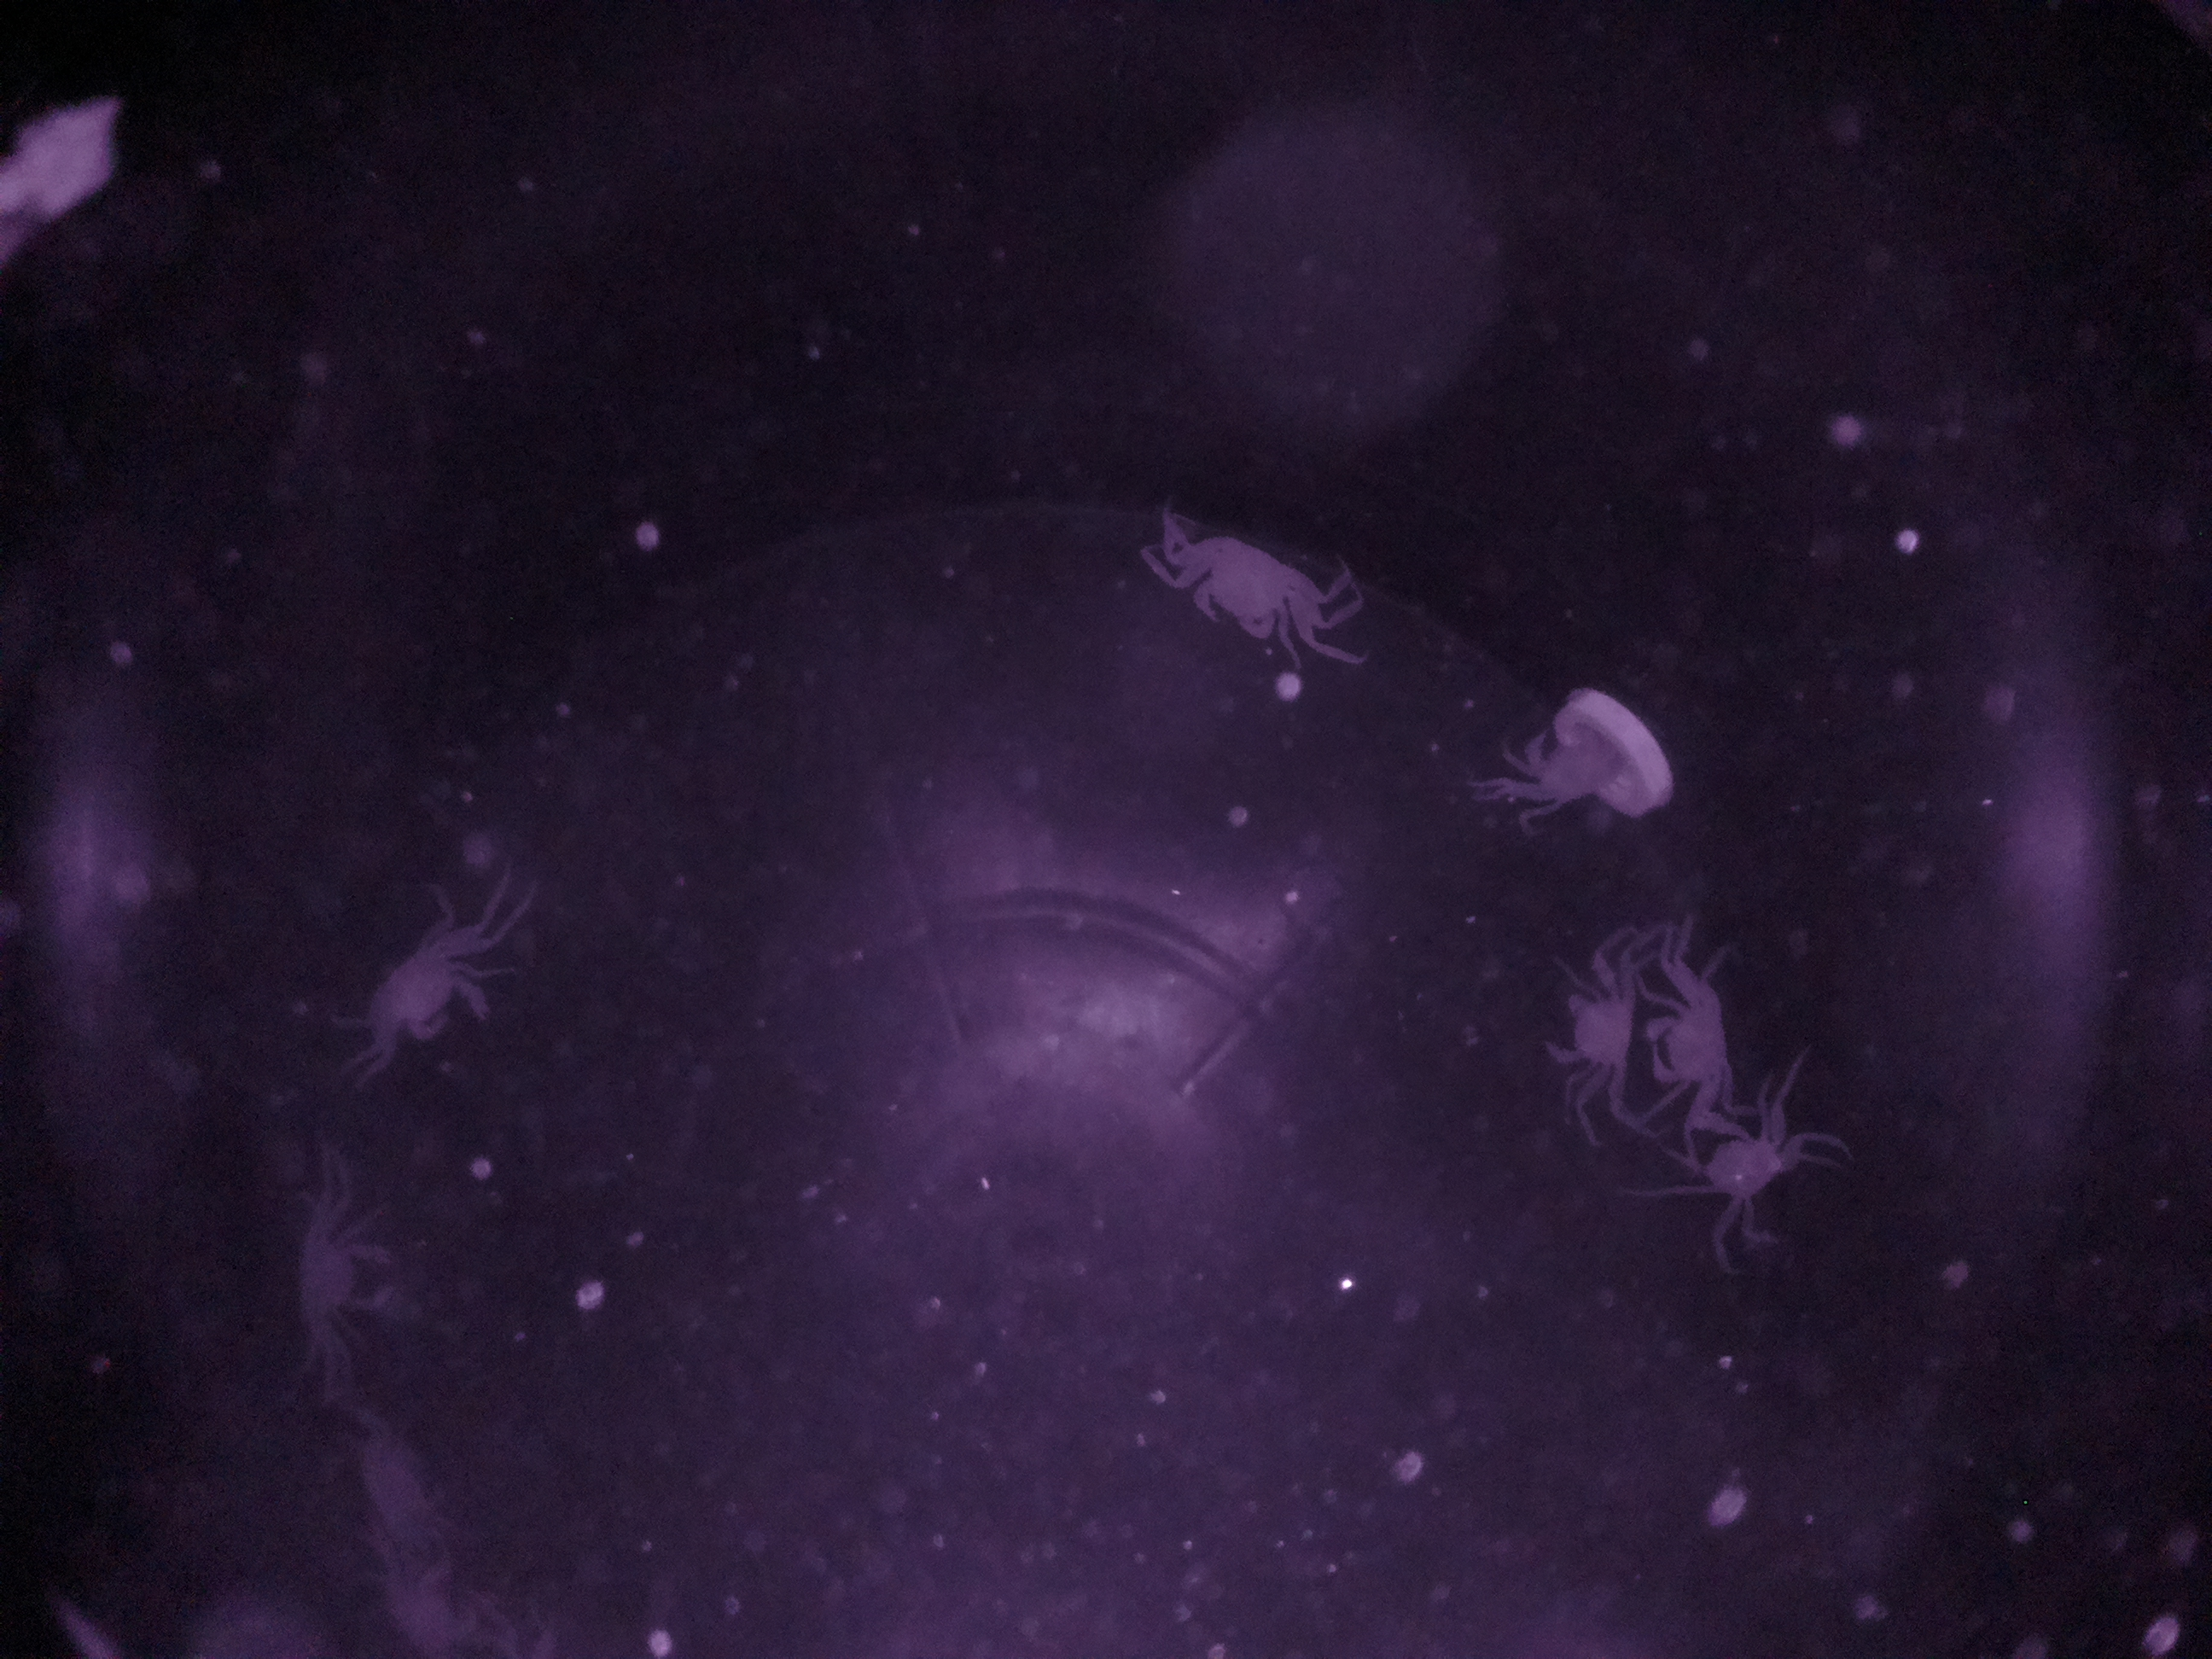Crab: (340, 917, 528, 1073), (1155, 505, 1329, 669), (1531, 938, 1637, 1155), (1639, 938, 1745, 1127)
